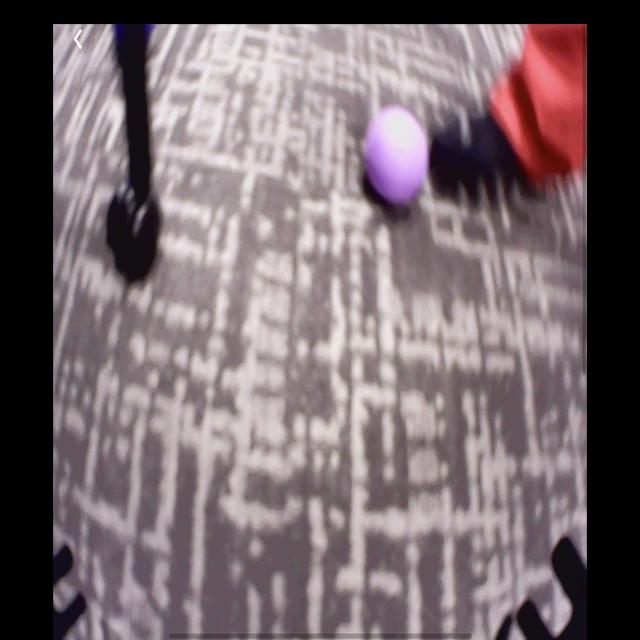ball: (365, 107, 427, 205)
